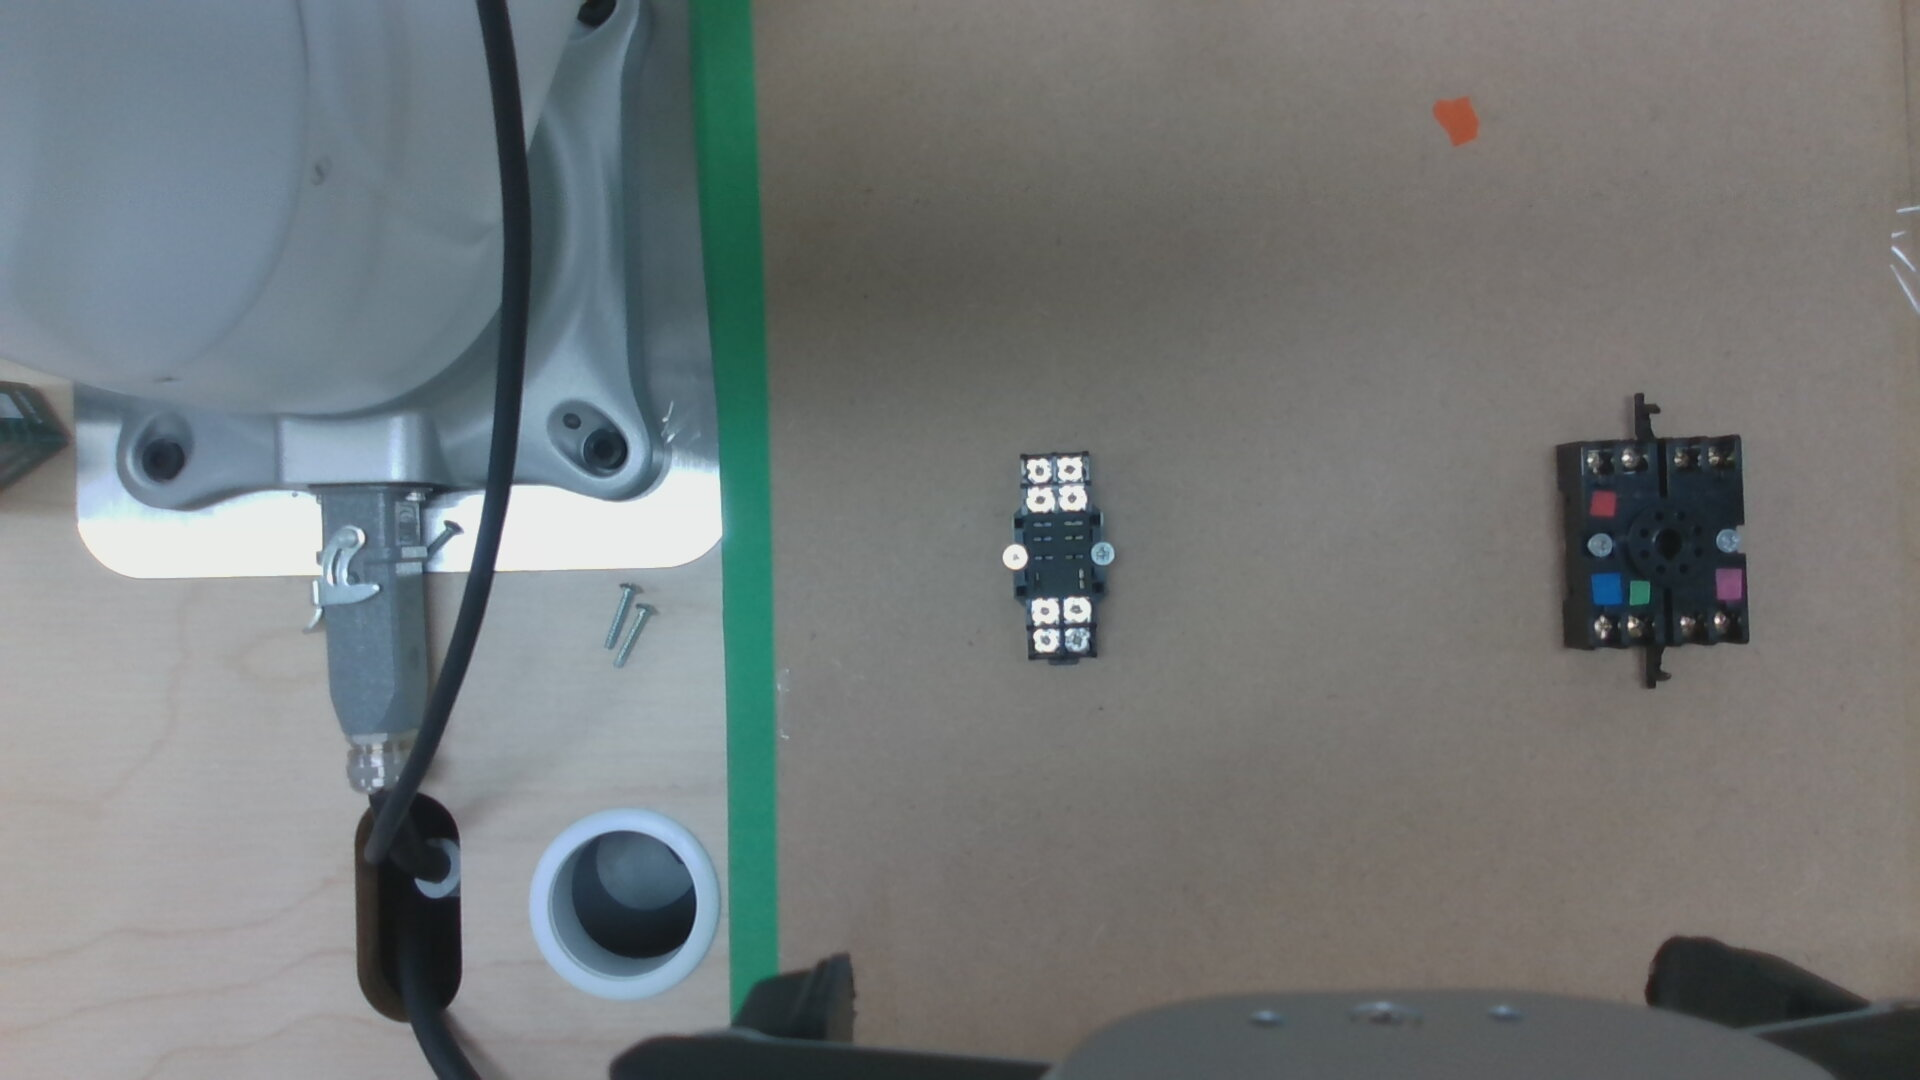relay 3: (1058, 459, 1083, 477)
relay 4: (1027, 462, 1051, 481)
relay 5: (1065, 629, 1091, 651)
relay 6: (1033, 632, 1058, 651)
relay 7: (1064, 597, 1089, 620)
relay 8: (1033, 599, 1058, 622)
